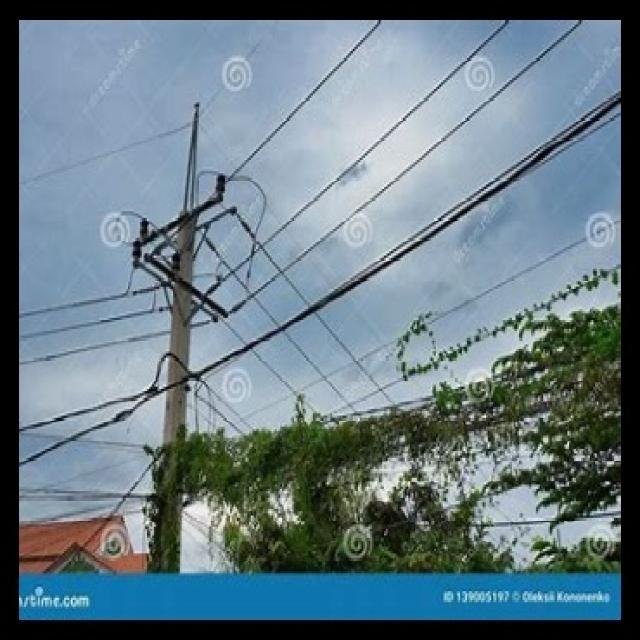critical vegetation: (168, 362, 621, 538)
